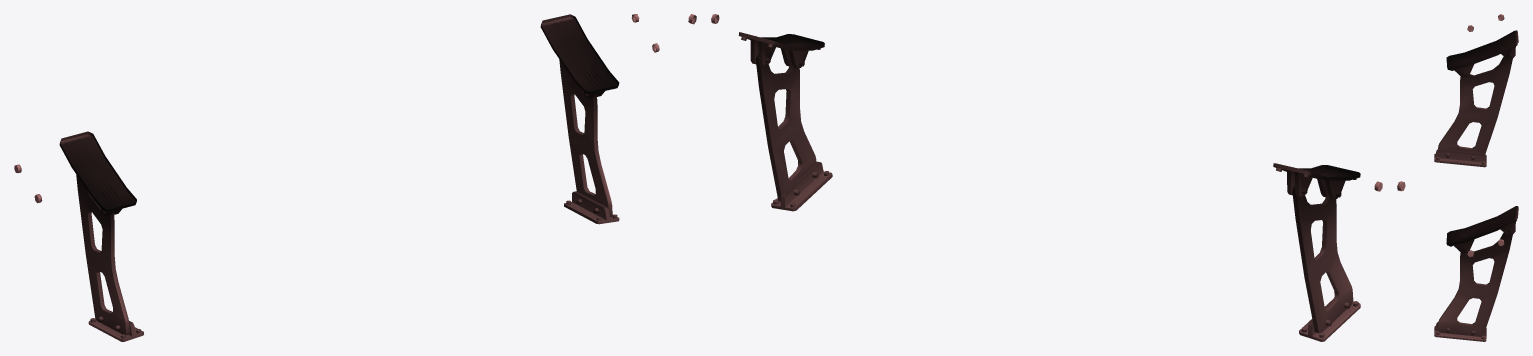
File: MX5_Spoiler03_Trim.fbx
3 renders of one model, left to right at view 1: azimuth 30°, elevation 25°; view 2: azimuth 150°, elevation 25°; view 3: azimuth 270°, elevation 25°, orthographic. The views are drawn at different scales.
Parts seen in each view (by area): view 1: MX5_Spoiler03_Trim; view 2: MX5_Spoiler03_Trim; view 3: MX5_Spoiler03_Trim.
Boxes of the visible parts, x1,y1,x2,y2 form: MX5_Spoiler03_Trim: (14, 14, 659, 341); MX5_Spoiler03_Trim: (688, 14, 1405, 341); MX5_Spoiler03_Trim: (1434, 14, 1518, 341).
Bounding box in the file's own units: 129 × 33.96 × 20.28.
